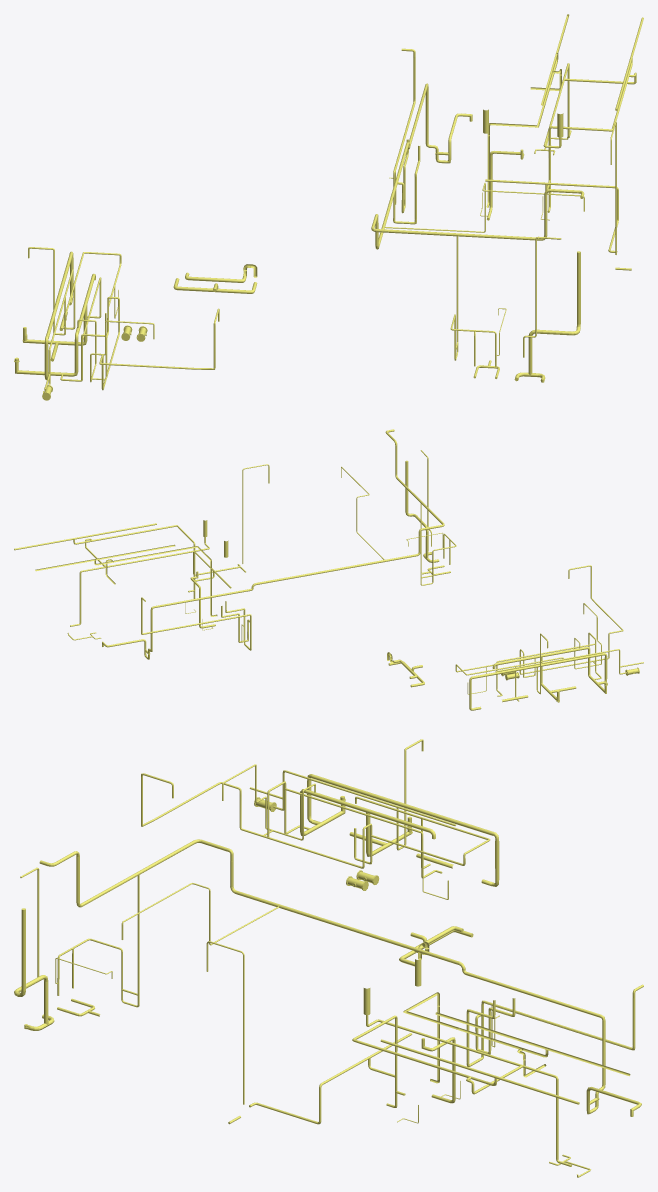
The model's file is NoLod_27.glb.
The picture shows the model from 3 angles, top to bottom: view 1: azimuth 30°, elevation 25°; view 2: azimuth 150°, elevation 25°; view 3: azimuth 270°, elevation 25°; orthographic projection. The views are drawn at different scales.
Visible parts, largest first — view 1: rtc; view 2: rtc; view 3: rtc.
Part boxes in pixels (x1,y1,x2,y2): rtc: [14, 14, 643, 400]; rtc: [14, 429, 643, 710]; rtc: [14, 739, 643, 1177].
Size of the model in its own units: 59.31 by 13.3 by 38.35.
